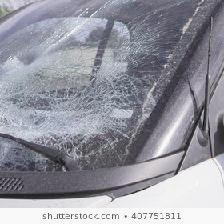glass_shatter: (3, 11, 197, 182)
